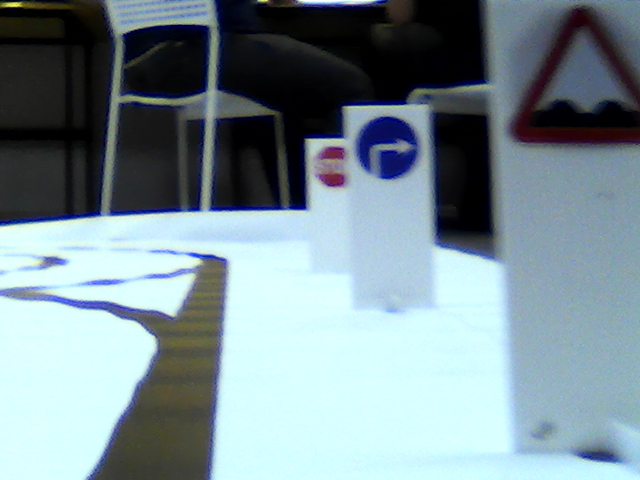Nerov: (515, 3, 640, 151)
Right: (353, 112, 421, 178)
Stop: (313, 146, 345, 187)
